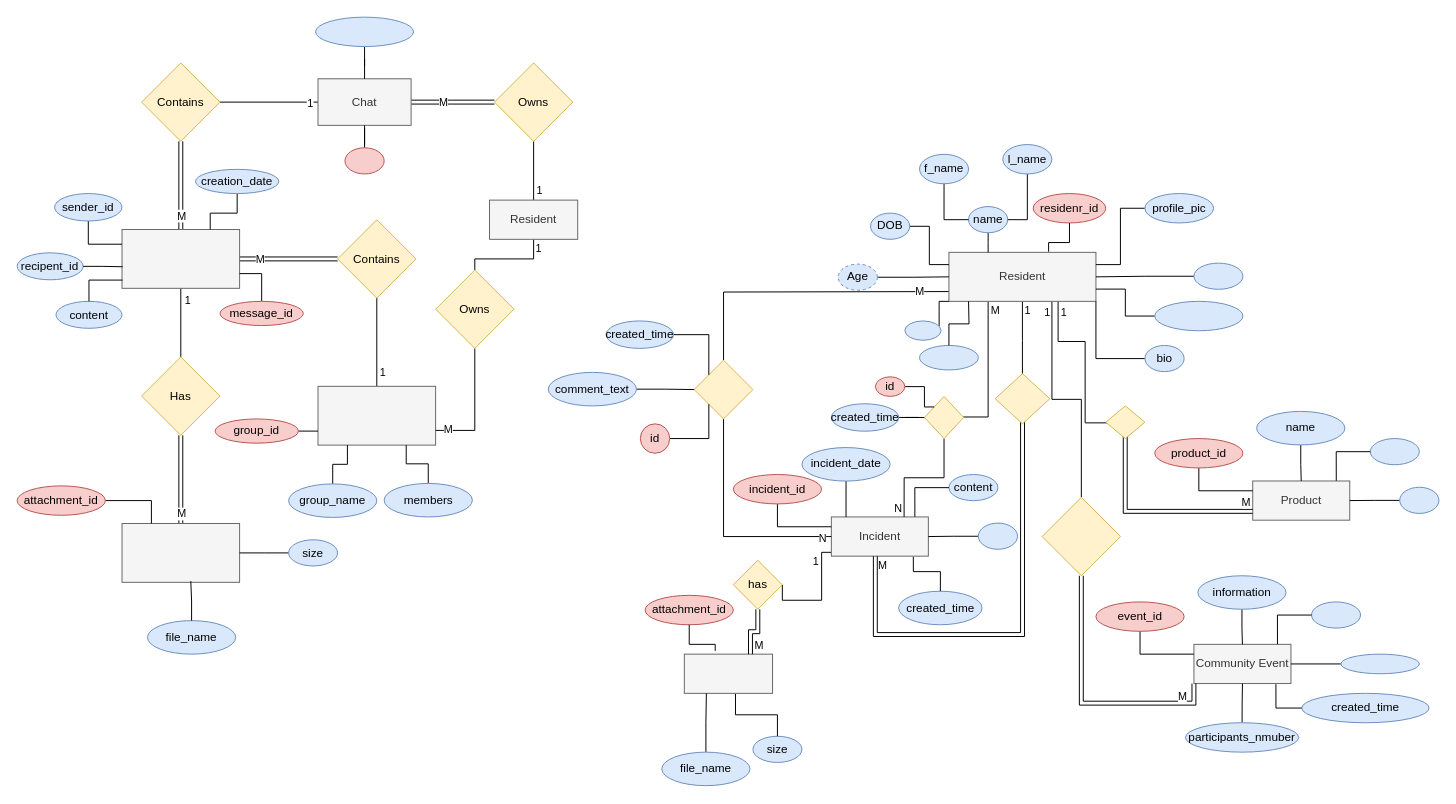
Image size: 1456x804. Some labels were removed from this diagram. The centre of each missing label's shape, as x and y in pixels:
"address" goes at point 1218,275.
"Attachment" goes at point 728,673.
"chat_id" goes at point 364,160.
"Comments" goes at point 723,389.
"cost" goes at point 1419,499.
"Creates" goes at point 1081,536.
"email" goes at point 922,330.
"event_date" goes at point 1379,663.
"Group Chat" goes at point 376,415.
"Likes" goes at point 943,417.
"location" goes at point 1336,614.
"Message" goes at point 180,258.
"Message_Attachment" goes at point 180,552.
"participant_name" goes at point 364,31.
"password" goes at point 948,357.
"phone_number" goes at point 1198,315.
"Posts" goes at point 1022,398.
"quantity" goes at point 1394,451.
"sells" goes at point 1125,422.
"title" goes at point 997,535.
